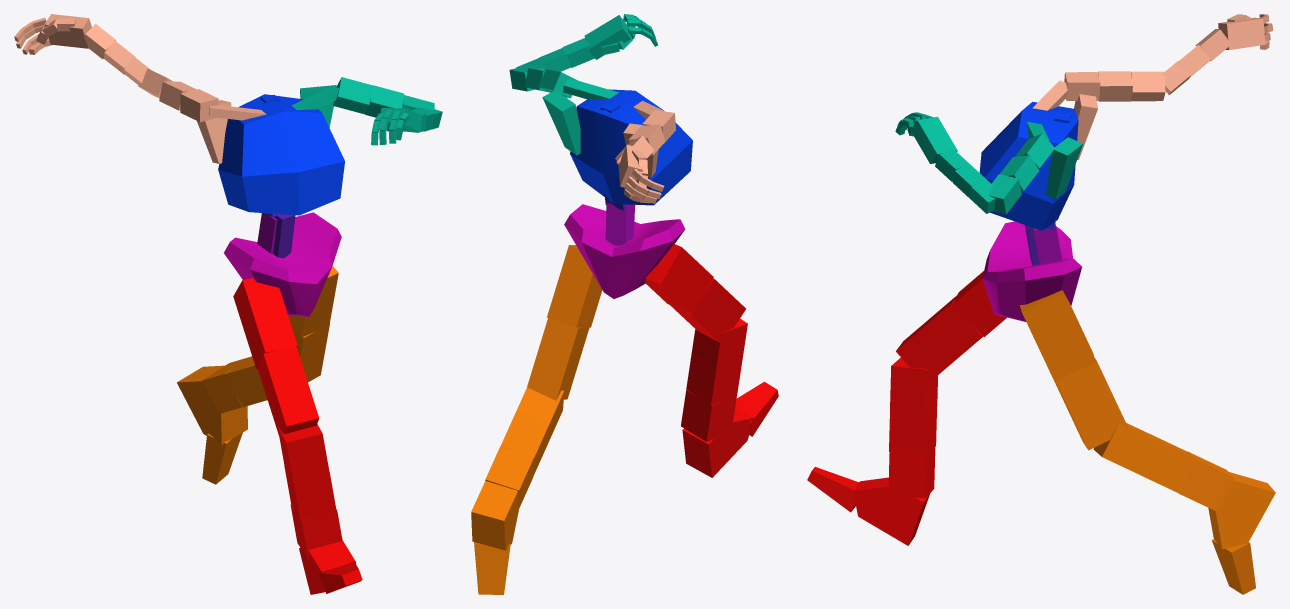
The model's file is characterRig.obj.
3 views of the same model, side by side, from view 1: azimuth 30°, elevation 25°; view 2: azimuth 150°, elevation 25°; view 3: azimuth 270°, elevation 25° (orthographic). The views are drawn at different scales.
Parts seen in each view (by area): view 1: Marine_NoMesh_NoBonesRibcage, Marine_NoMesh_NoBonesPelvis, Marine_NoMesh_NoBonesRThigh2, Marine_NoMesh_NoBonesRThigh1, Marine_NoMesh_NoBonesLAnkle, Marine_NoMesh_NoBonesRCalfCalf, Marine_NoMesh_NoBonesRCalf2, Marine_NoMesh_NoBonesRForearmForearm, Marine_NoMesh_NoBonesRCalf3, Marine_NoMesh_NoBonesRAnkle, Marine_NoMesh_NoBonesCollarboneBone01, Marine_NoMesh_NoBonesLThigh1 (+14 smaller); view 2: Marine_NoMesh_NoBonesRibcage, Marine_NoMesh_NoBonesPelvis, Marine_NoMesh_NoBonesLThigh2, Marine_NoMesh_NoBonesLThigh1, Marine_NoMesh_NoBonesRThigh1, Marine_NoMesh_NoBonesLAnkle, Marine_NoMesh_NoBonesRAnkle, Marine_NoMesh_NoBonesRThigh2, Marine_NoMesh_NoBonesRCalf2, Marine_NoMesh_NoBonesRCalf3, Marine_NoMesh_NoBonesCollarboneBone01, Marine_NoMesh_NoBonesRCalfCalf (+14 smaller); view 3: Marine_NoMesh_NoBonesPelvis, Marine_NoMesh_NoBonesRibcage, Marine_NoMesh_NoBonesLThigh1, Marine_NoMesh_NoBonesLThigh2, Marine_NoMesh_NoBonesRThigh2, Marine_NoMesh_NoBonesLAnkle, Marine_NoMesh_NoBonesRAnkle, Marine_NoMesh_NoBonesCollarboneBone01, Marine_NoMesh_NoBonesRCalf2, Marine_NoMesh_NoBonesRCalfCalf, Marine_NoMesh_NoBonesRCalf3, Marine_NoMesh_NoBonesLCalfCalf (+16 smaller).
Part boxes in pixels (x1,y1,x2,y2): Marine_NoMesh_NoBonesRibcage: [218, 94, 344, 215]; Marine_NoMesh_NoBonesPelvis: [224, 212, 341, 316]; Marine_NoMesh_NoBonesRThigh2: [258, 346, 319, 439]; Marine_NoMesh_NoBonesRThigh1: [233, 278, 297, 368]; Marine_NoMesh_NoBonesLAnkle: [177, 365, 247, 444]; Marine_NoMesh_NoBonesRCalfCalf: [277, 424, 329, 481]; Marine_NoMesh_NoBonesRCalf2: [284, 465, 336, 519]; Marine_NoMesh_NoBonesRForearmForearm: [84, 23, 150, 84]; Marine_NoMesh_NoBonesRCalf3: [290, 504, 342, 558]; Marine_NoMesh_NoBonesRAnkle: [299, 540, 356, 594]; Marine_NoMesh_NoBonesCollarboneBone01: [197, 85, 336, 163]; Marine_NoMesh_NoBonesLThigh1: [288, 266, 338, 337]; Marine_NoMesh_NoBonesRibcage: [570, 89, 692, 205]; Marine_NoMesh_NoBonesPelvis: [564, 204, 685, 298]; Marine_NoMesh_NoBonesLThigh2: [527, 318, 589, 400]; Marine_NoMesh_NoBonesLThigh1: [547, 245, 602, 327]; Marine_NoMesh_NoBonesRThigh1: [645, 244, 713, 314]; Marine_NoMesh_NoBonesLAnkle: [471, 481, 518, 550]; Marine_NoMesh_NoBonesRAnkle: [682, 408, 753, 477]; Marine_NoMesh_NoBonesRThigh2: [670, 278, 745, 343]; Marine_NoMesh_NoBonesRCalf2: [686, 353, 742, 405]; Marine_NoMesh_NoBonesRCalf3: [681, 390, 736, 441]; Marine_NoMesh_NoBonesCollarboneBone01: [542, 90, 658, 177]; Marine_NoMesh_NoBonesRCalfCalf: [691, 318, 747, 369]; Marine_NoMesh_NoBonesPelvis: [982, 221, 1081, 321]; Marine_NoMesh_NoBonesRibcage: [979, 101, 1078, 230]; Marine_NoMesh_NoBonesLThigh1: [1019, 290, 1095, 381]; Marine_NoMesh_NoBonesLThigh2: [1054, 358, 1129, 450]; Marine_NoMesh_NoBonesRThigh2: [896, 295, 982, 382]; Marine_NoMesh_NoBonesLAnkle: [1208, 472, 1275, 549]; Marine_NoMesh_NoBonesRAnkle: [853, 477, 930, 545]; Marine_NoMesh_NoBonesCollarboneBone01: [1046, 94, 1097, 199]; Marine_NoMesh_NoBonesRCalf2: [889, 403, 937, 455]; Marine_NoMesh_NoBonesRCalfCalf: [890, 357, 937, 412]; Marine_NoMesh_NoBonesRCalf3: [888, 447, 935, 498]; Marine_NoMesh_NoBonesLCalfCalf: [1093, 423, 1157, 474].
Bounding box in the file's own units: 11.42 × 18.65 × 15.86.
